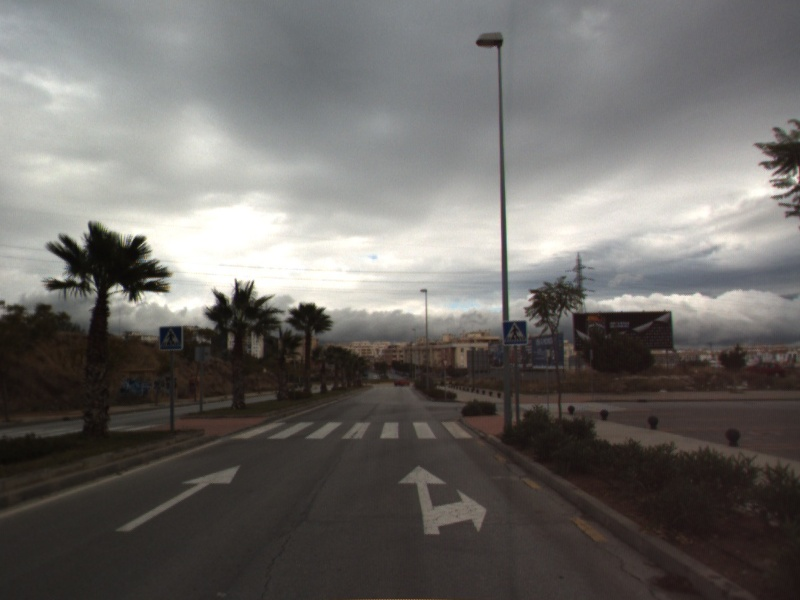STRAIGHT: (113, 463, 243, 534)
STRAIGHT_RIGHT: (395, 463, 489, 537)
